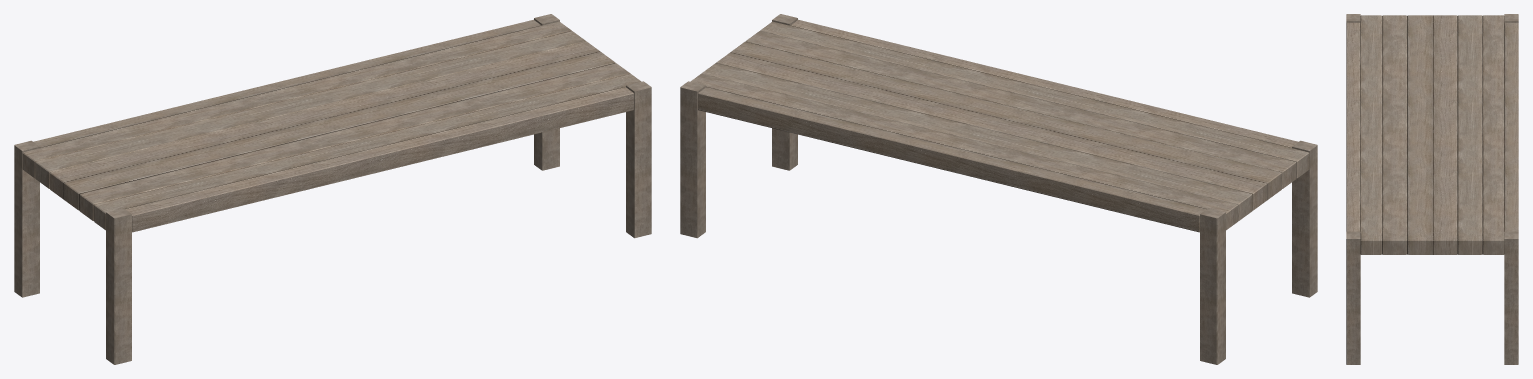
The model's file is Office_Table.fbx.
The picture shows the model from 3 angles, left to right: view 1: azimuth 30°, elevation 25°; view 2: azimuth 150°, elevation 25°; view 3: azimuth 270°, elevation 25°; orthographic projection. The views are drawn at different scales.
Parts seen in each view (by area): view 1: Office_Table; view 2: Office_Table; view 3: Office_Table.
Part boxes in pixels (x1,y1,x2,y2): Office_Table: (14, 14, 651, 364); Office_Table: (680, 14, 1317, 364); Office_Table: (1346, 14, 1518, 364).
Size of the model in its own units: 311 by 80.98 by 101.
